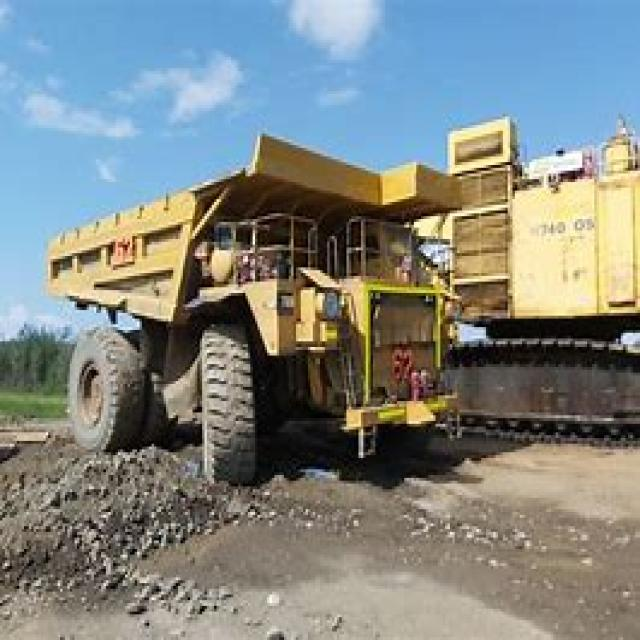dump_truck: (38, 131, 474, 483)
